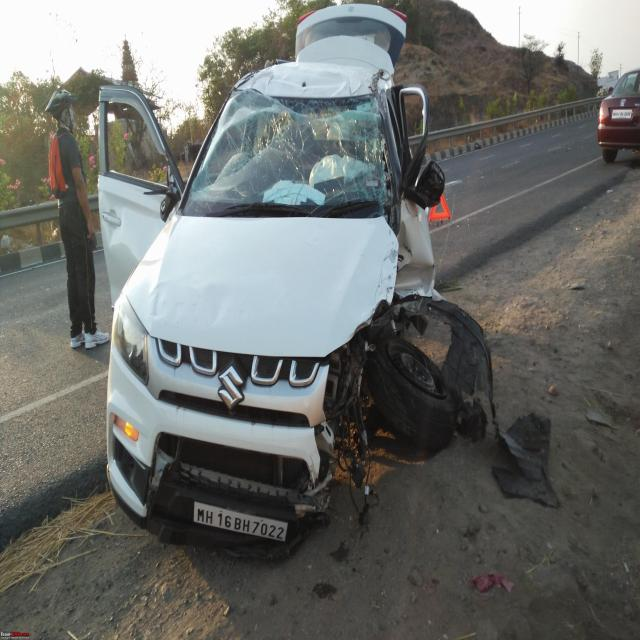accident: (99, 4, 556, 553)
